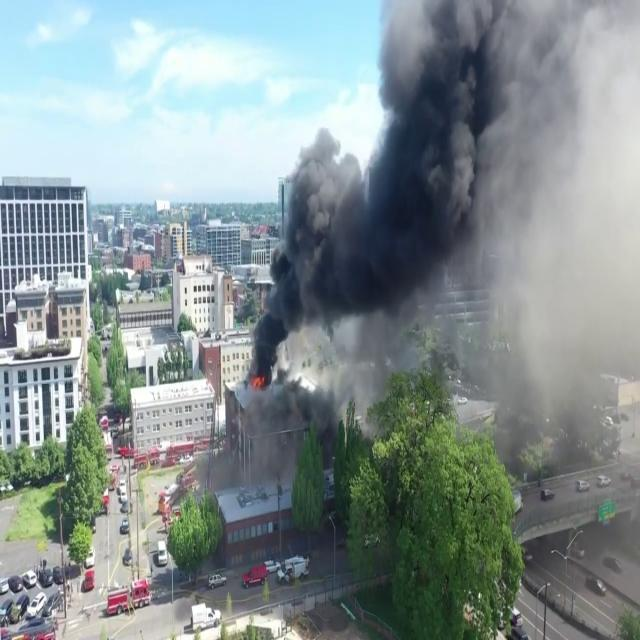Smoke: (254, 0, 502, 382), (468, 0, 640, 503)
